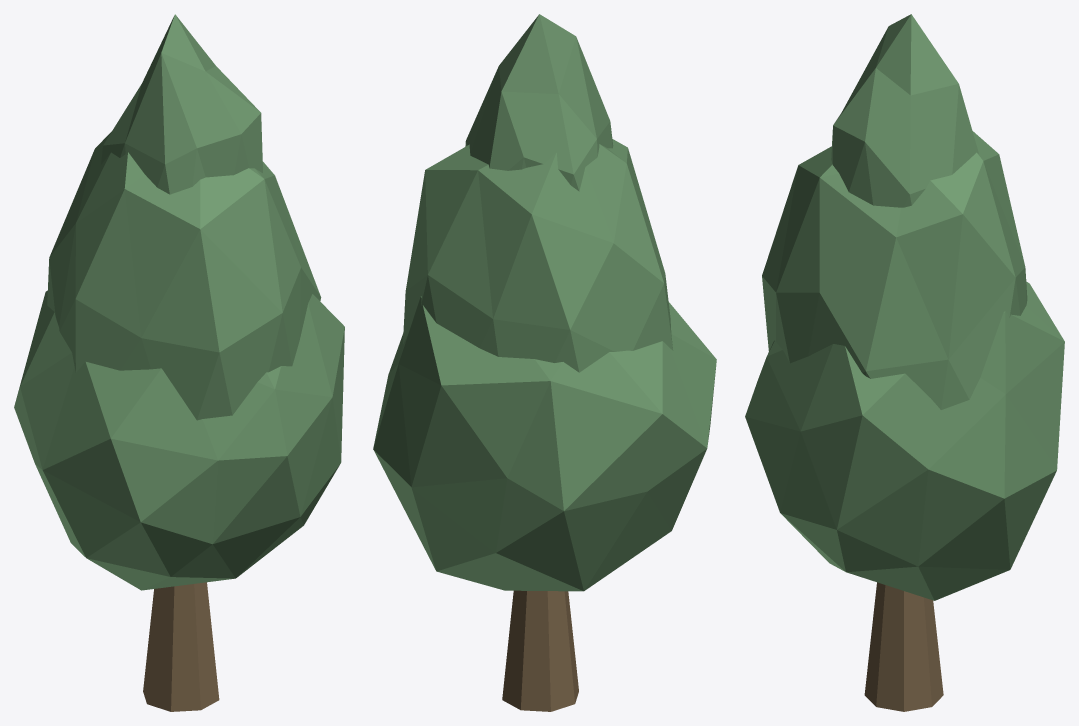
The picture shows the model from 3 angles, left to right: view 1: azimuth 30°, elevation 25°; view 2: azimuth 150°, elevation 25°; view 3: azimuth 270°, elevation 25°; orthographic projection.
Visible parts, largest first — view 1: node (×4); view 2: node (×4); view 3: node (×4).
Boxes of the visible parts, <box> form: node (×4): <box>14,14,344,711</box>; node (×4): <box>373,14,716,711</box>; node (×4): <box>745,14,1064,711</box>.
Bounding box in the file's own units: 1.21 × 2.66 × 1.13.
